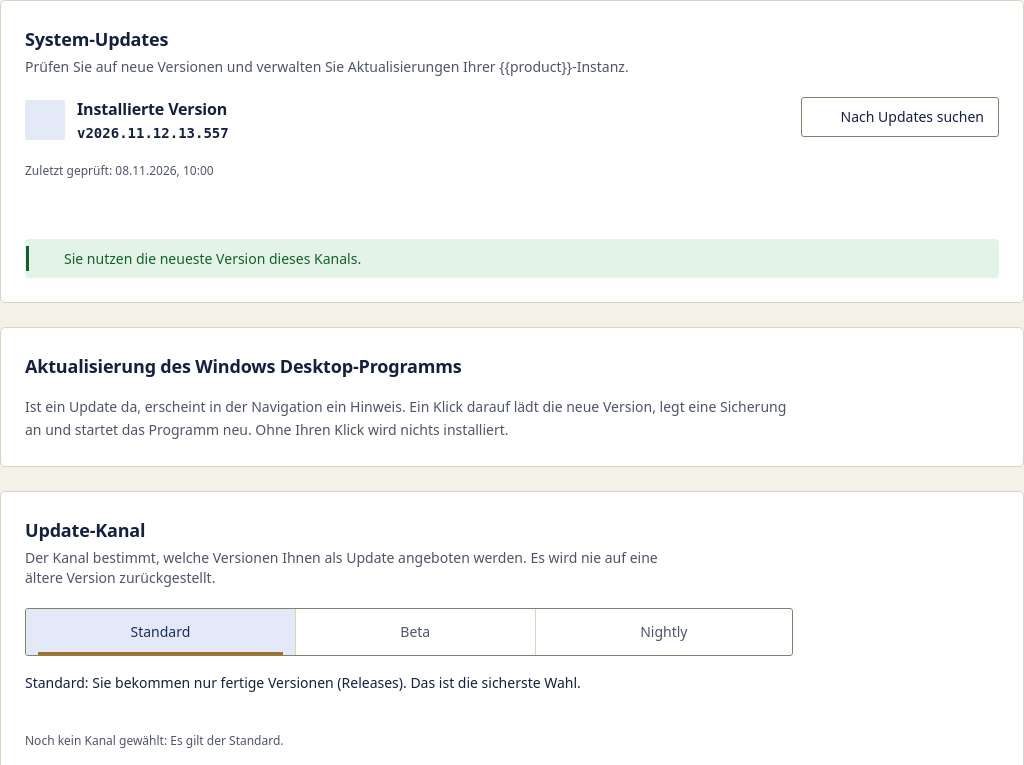
Scenario: update page: channel › saves the Beta channel and shows its explanation
What coordinates should you click on to do the following:
click the radio button labelled "Beta"
I would click on:
 (415, 632)
Its box is [295, 608, 535, 654].
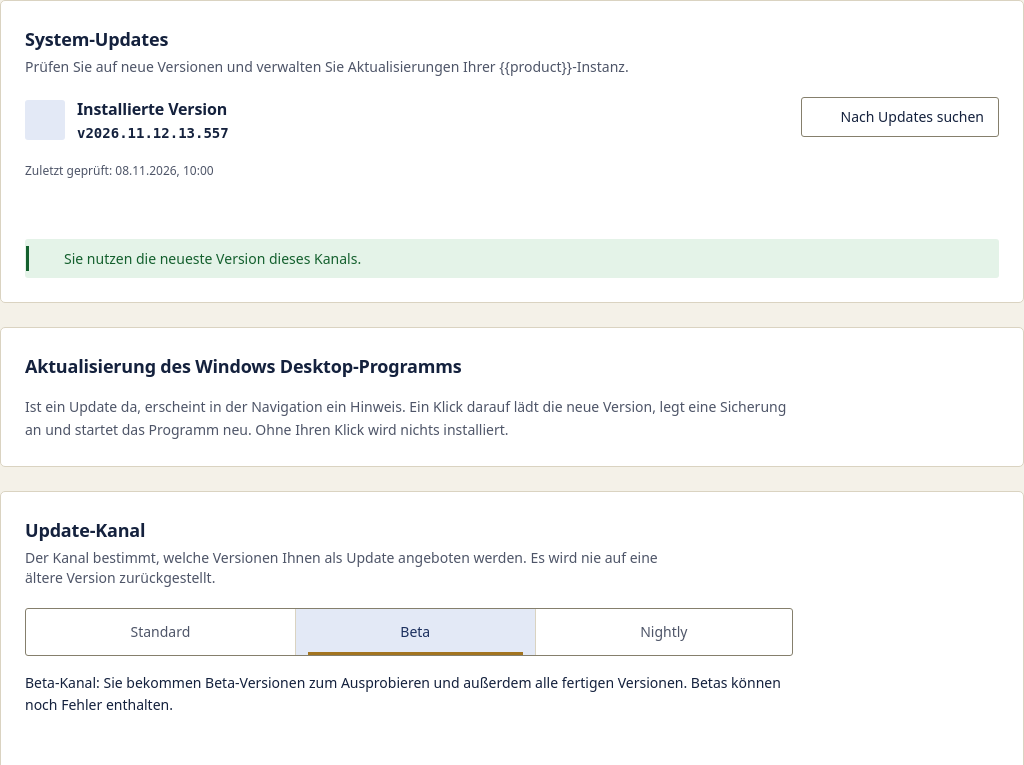
Result: the radio button labelled "Beta" is checked at [295, 608, 535, 654]
Result: the text with test id "update-channel-text" shows "Beta-Versionen zum Ausprobieren und außerdem alle fertigen Versionen" at [25, 672, 781, 714]
Result: the text "Noch kein Kanal gewählt: Es gilt der Standard." is gone
